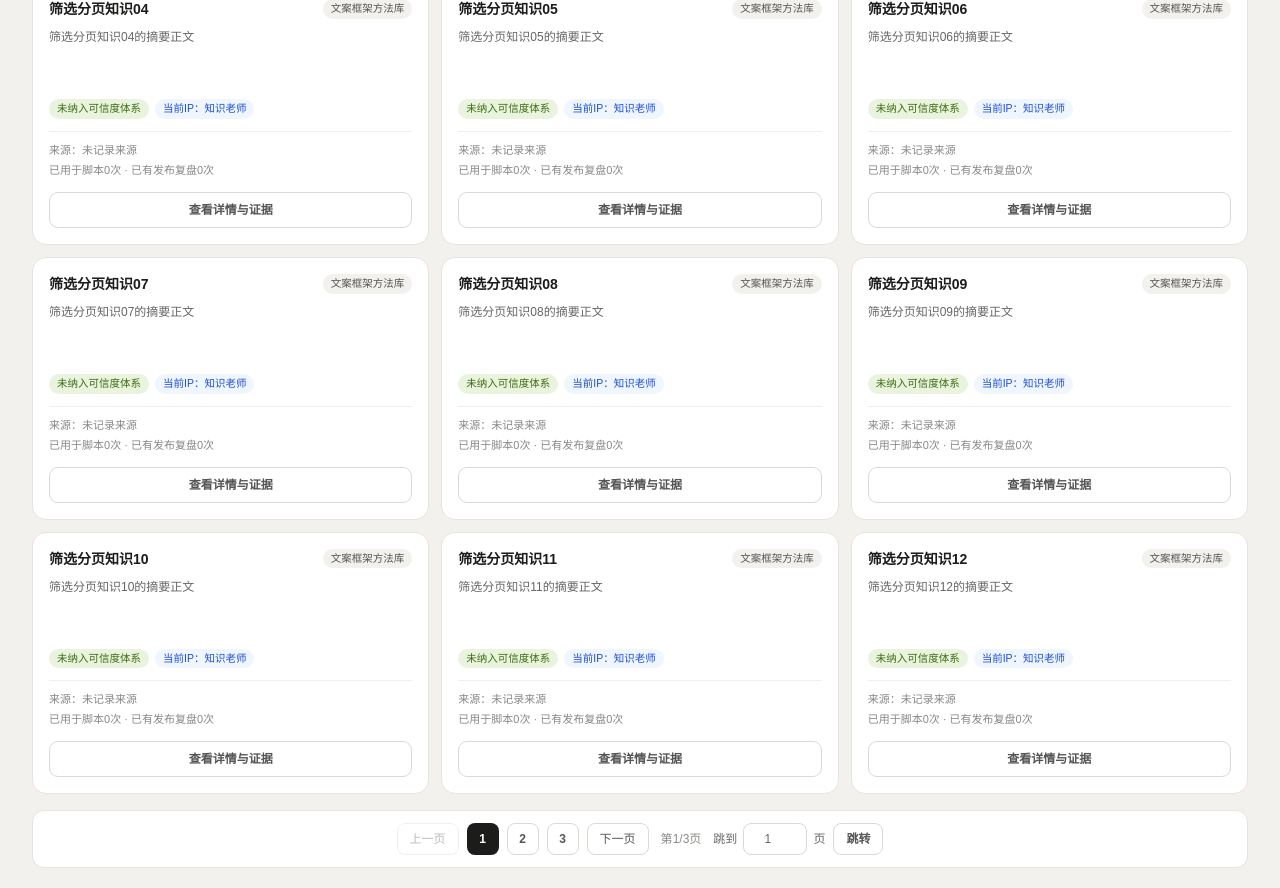
Test: 修改搜索或筛选条件后自动回到第1页
(page scrolled)
Click the button named "第2页" at (523, 839), box [507,823,539,855]
(page scrolled)
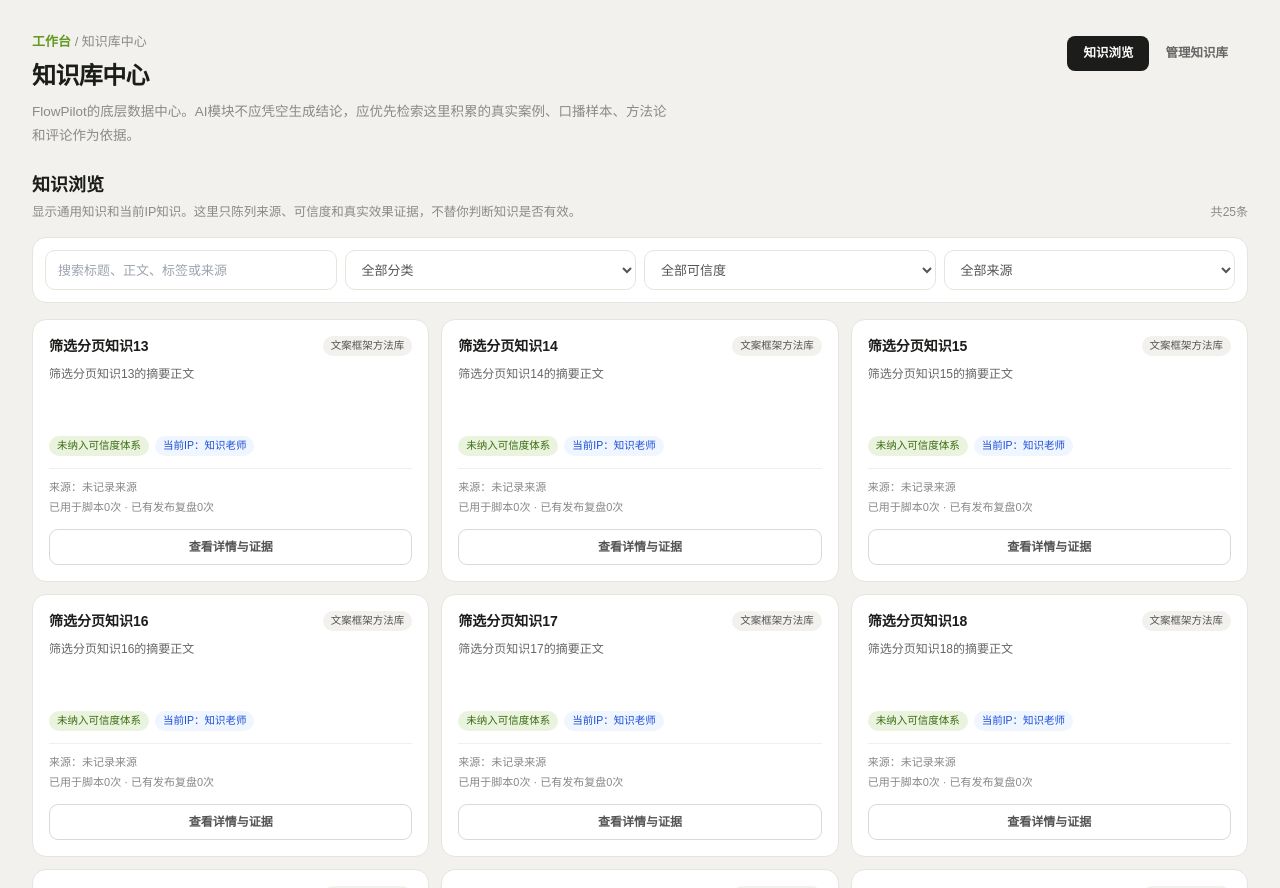
Type "筛选分页知识01" into the search field named "搜索知识" at (191, 270), box [45,250,336,290]
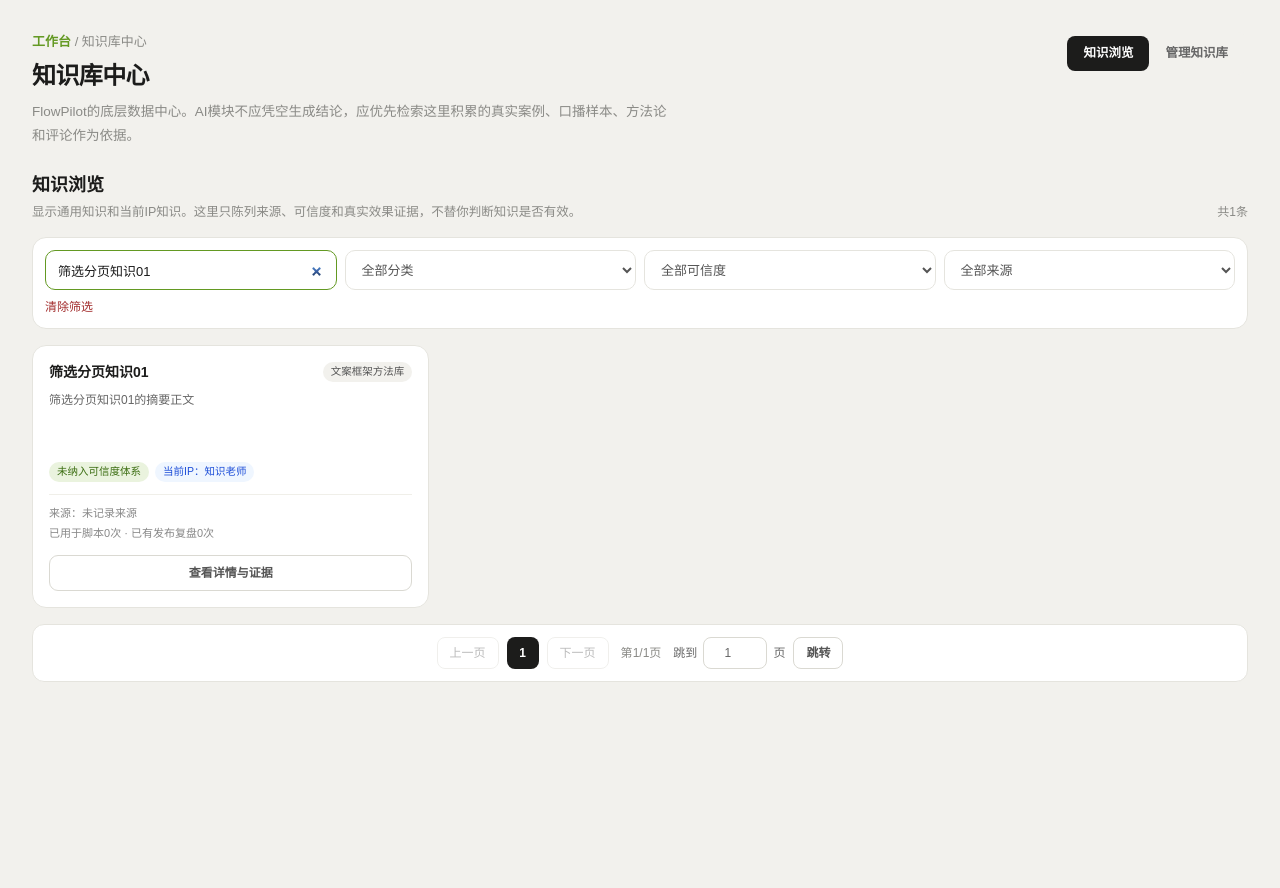
expect the heading "筛选分页知识01" is shown: met, box [49,362,149,382]
Clear the search field named "搜索知识" at (191, 270), box [45,250,336,290]
(page scrolled)
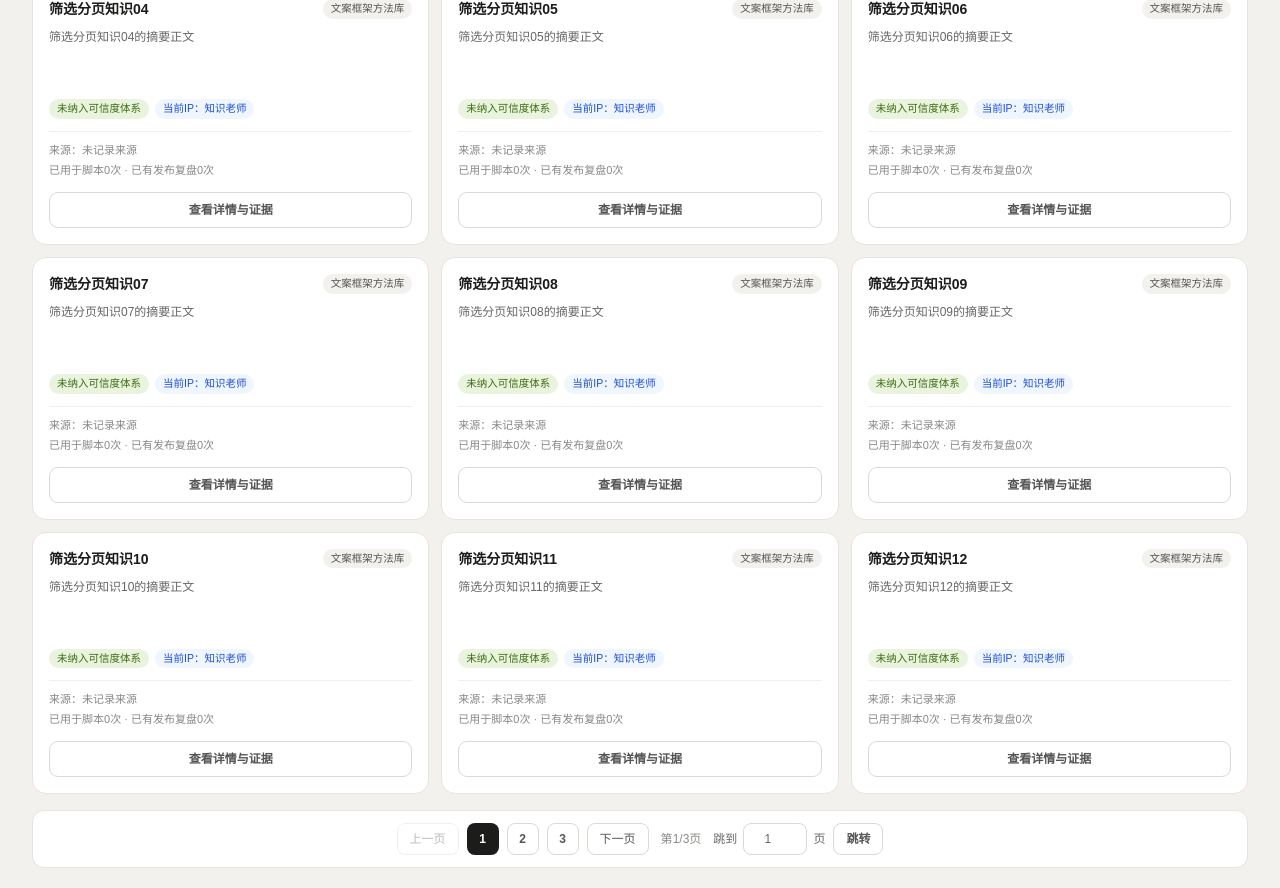
Click the button named "第2页" at (523, 839), box [507,823,539,855]
(page scrolled)
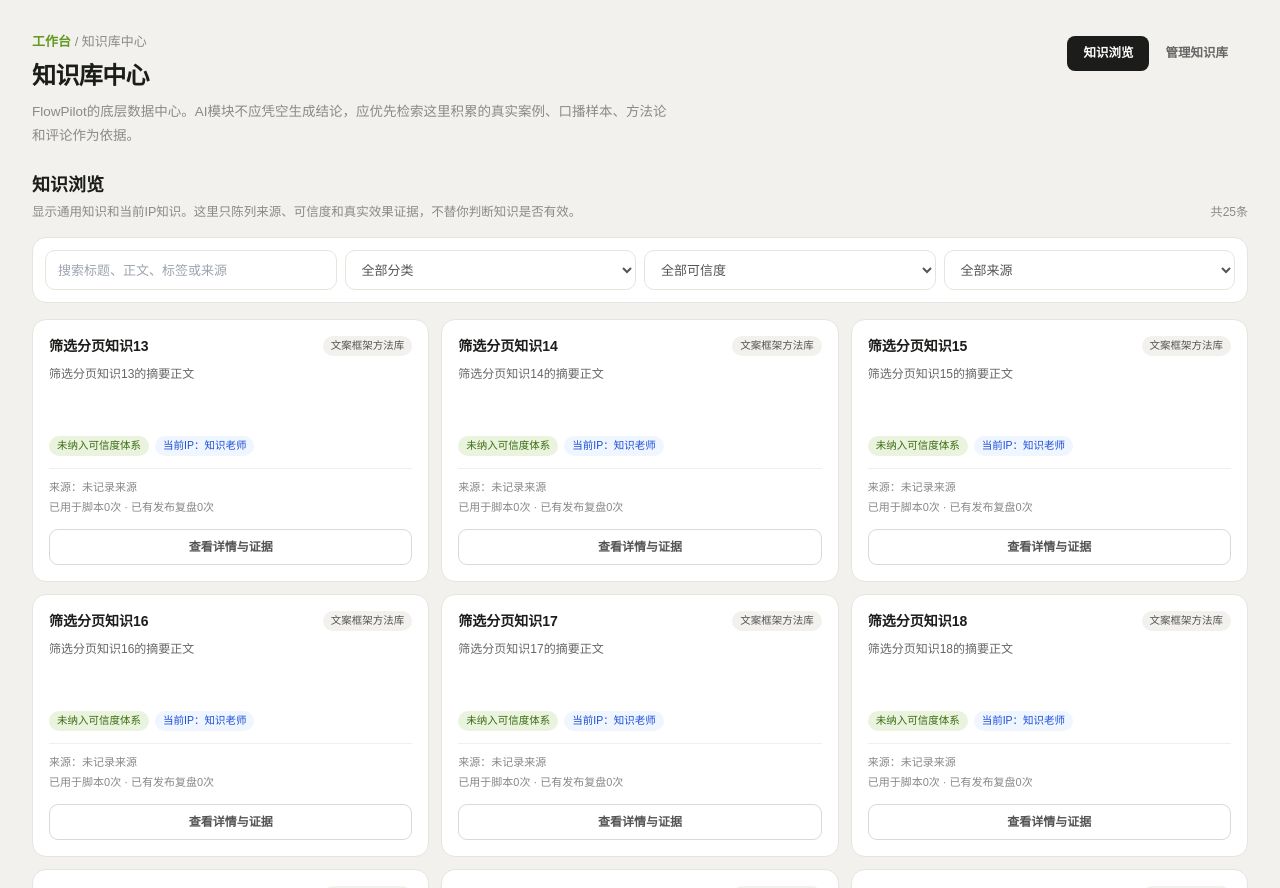
Select "开头方法库" in the dropdown named "按分类筛选" at (490, 270), box [344,250,636,290]
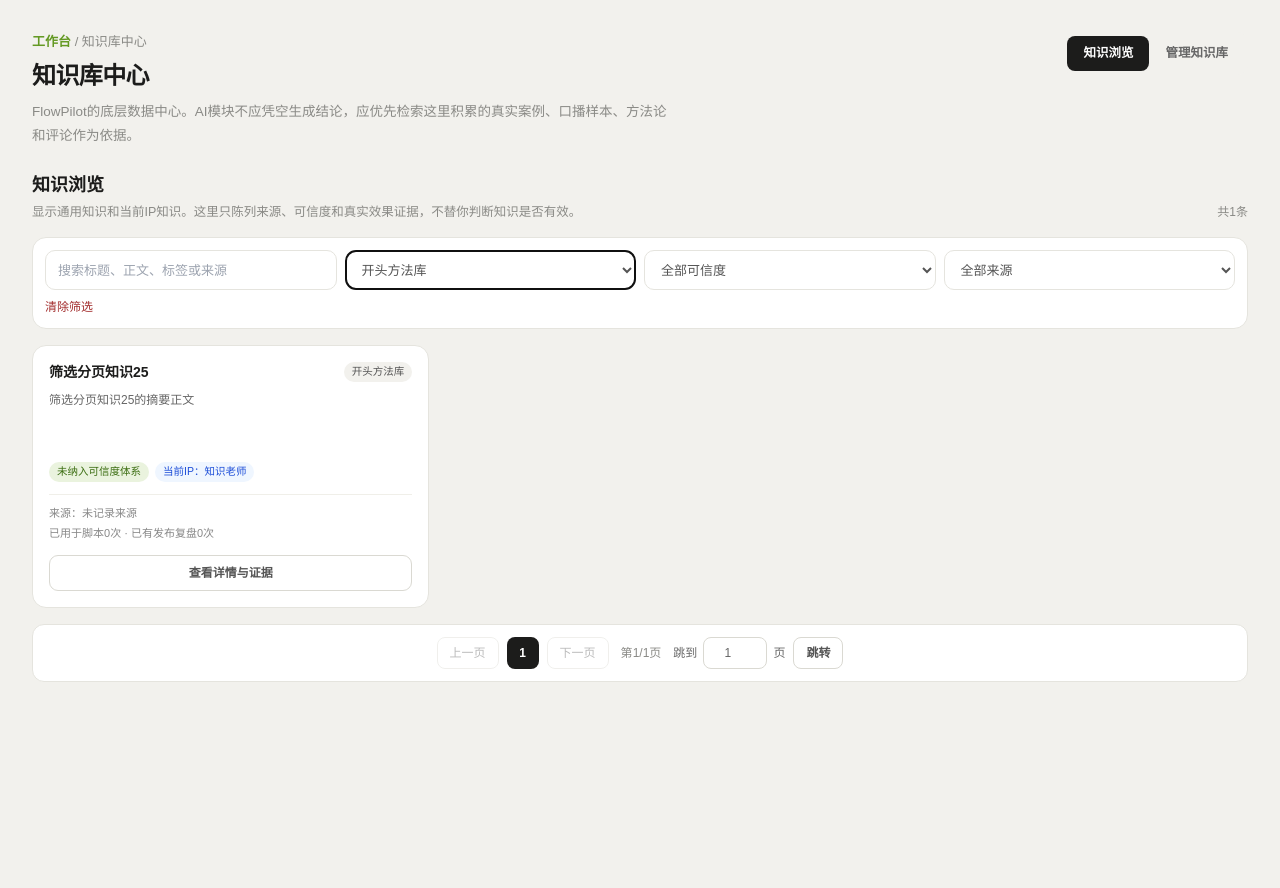
expect the heading "筛选分页知识25" is shown: met, box [49,362,149,382]
